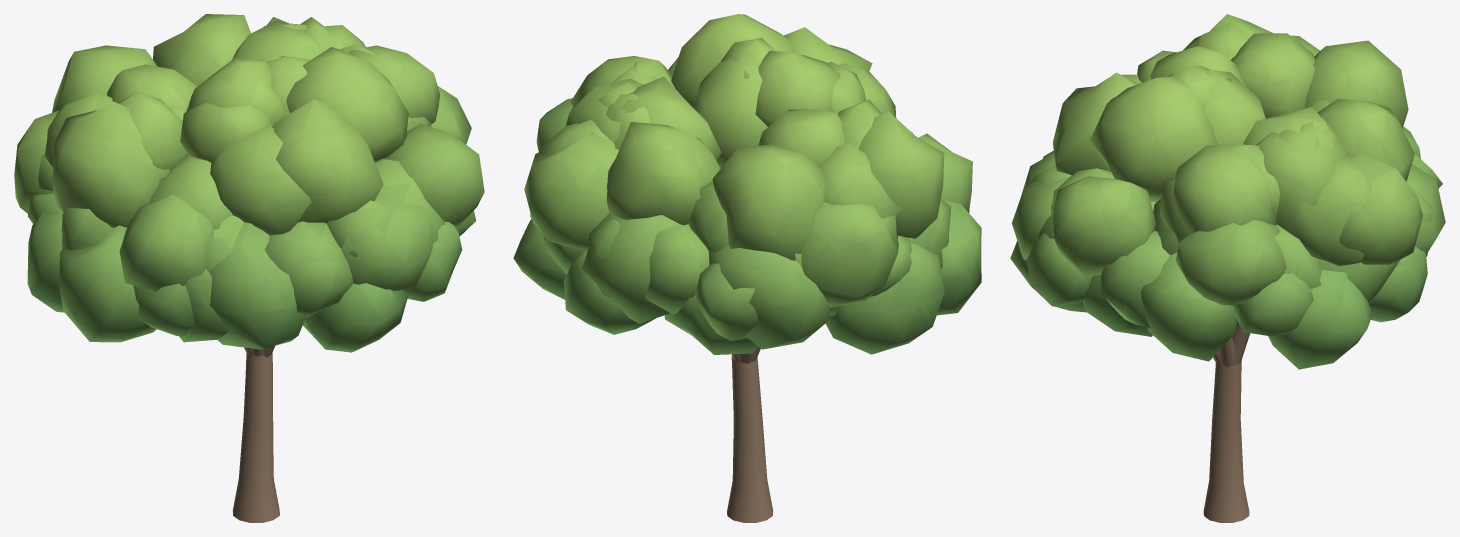
File: tree_featured.glb
The picture shows the model from 3 angles, left to right: view 1: azimuth 30°, elevation 25°; view 2: azimuth 150°, elevation 25°; view 3: azimuth 270°, elevation 25°; orthographic projection. The views are drawn at different scales.
Parts seen in each view (by area): view 1: TreeFeatured; view 2: TreeFeatured; view 3: TreeFeatured.
Boxes of the visible parts, <box> form: TreeFeatured: <box>14,14,484,522</box>; TreeFeatured: <box>513,14,981,522</box>; TreeFeatured: <box>1010,14,1445,522</box>.
Bounding box in the file's own units: 9.59 × 10.32 × 8.89.
